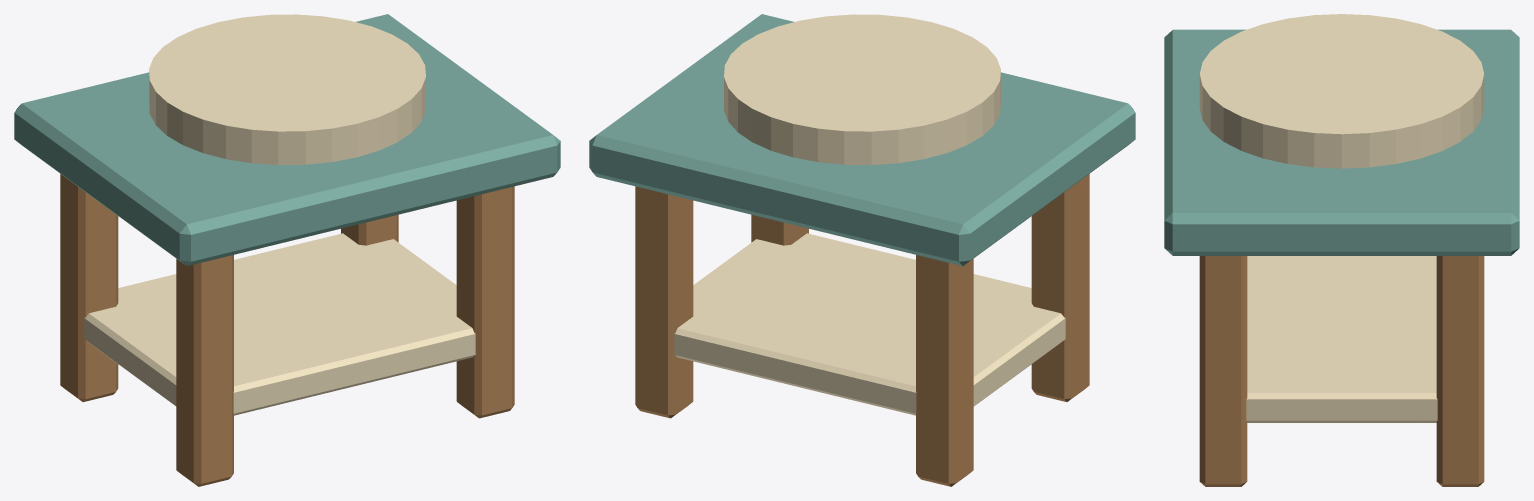
3 views of the same model, side by side, from view 1: azimuth 30°, elevation 25°; view 2: azimuth 150°, elevation 25°; view 3: azimuth 270°, elevation 25° (orthographic). The views are drawn at different scales.
Visible parts, largest first — view 1: ceramics-turntable-bench-01; view 2: ceramics-turntable-bench-01; view 3: ceramics-turntable-bench-01.
Part boxes in pixels (<box>): ceramics-turntable-bench-01: <box>14,14,560,486</box>; ceramics-turntable-bench-01: <box>589,14,1135,486</box>; ceramics-turntable-bench-01: <box>1164,14,1519,486</box>.
Size of the model in its own units: 0.95 by 0.78 by 0.75.
